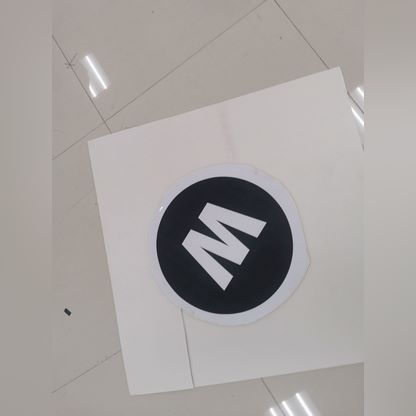W: (169, 188, 275, 298)
